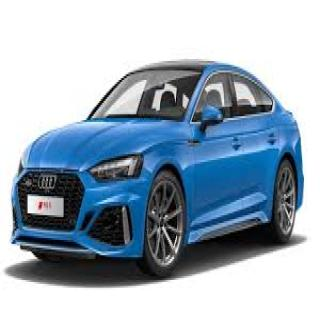Normal_vehicle: (11, 57, 305, 278)
